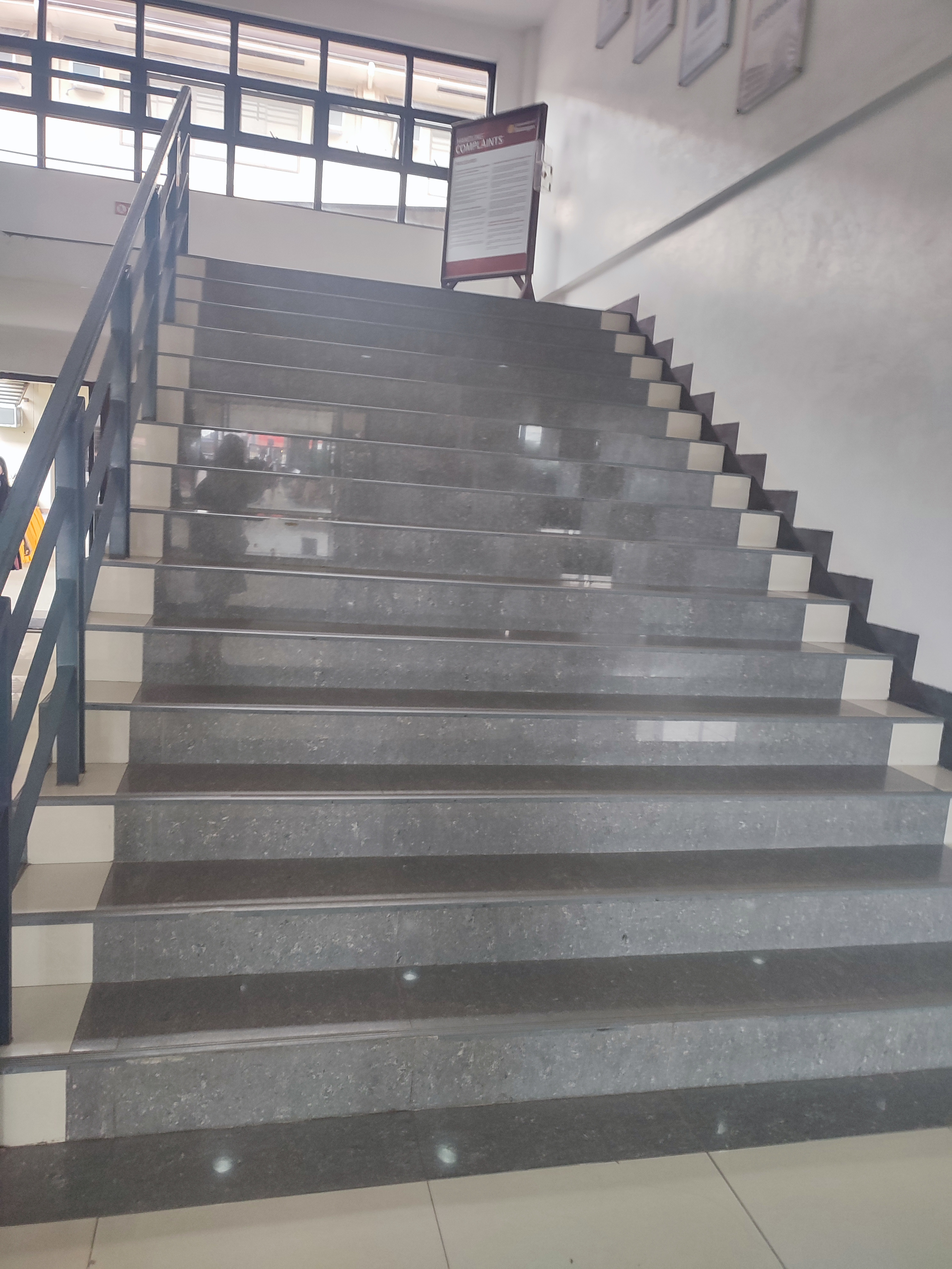Staircase: (0, 249, 952, 1263)
